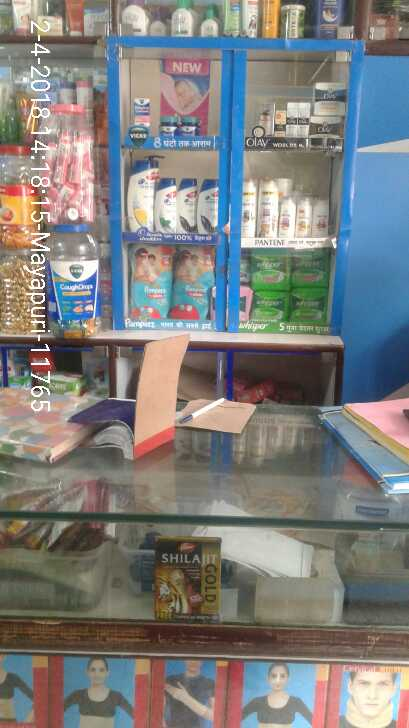vicks: (158, 113, 202, 139), (134, 95, 150, 128)
